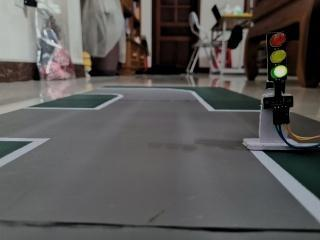green: (258, 24, 300, 96)
